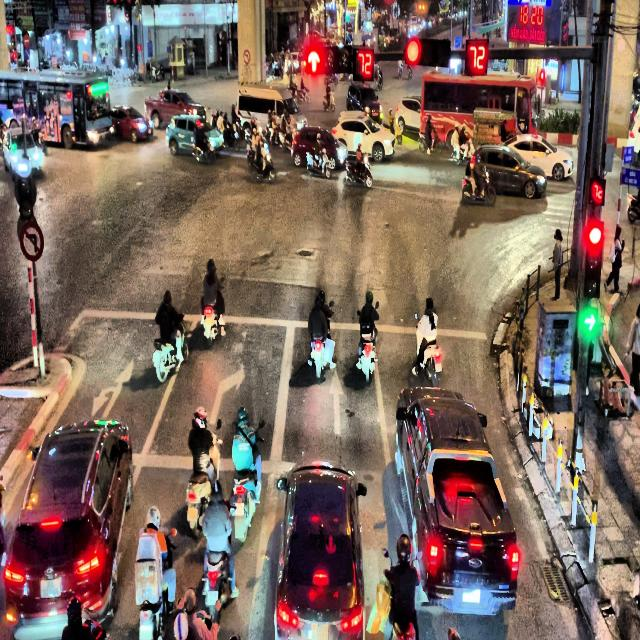BUS: (419, 70, 539, 150), (0, 70, 113, 150)
CAR: (2, 418, 134, 640), (412, 448, 520, 616), (274, 461, 367, 639), (462, 144, 548, 204), (503, 133, 574, 181), (332, 111, 396, 162), (166, 113, 224, 161), (291, 126, 348, 170), (145, 89, 206, 128), (2, 129, 44, 179), (110, 105, 154, 143), (346, 83, 383, 121), (394, 96, 422, 134)
MOTORBIKE: (195, 497, 236, 617), (134, 528, 177, 639), (228, 422, 264, 542), (186, 433, 222, 532), (152, 317, 189, 382), (413, 313, 442, 387), (308, 301, 335, 378), (356, 310, 378, 382), (462, 164, 496, 206), (201, 289, 225, 347), (246, 139, 276, 183), (344, 153, 373, 188), (306, 148, 331, 178), (192, 136, 216, 164), (418, 128, 442, 154), (222, 122, 240, 151), (322, 89, 336, 112)
